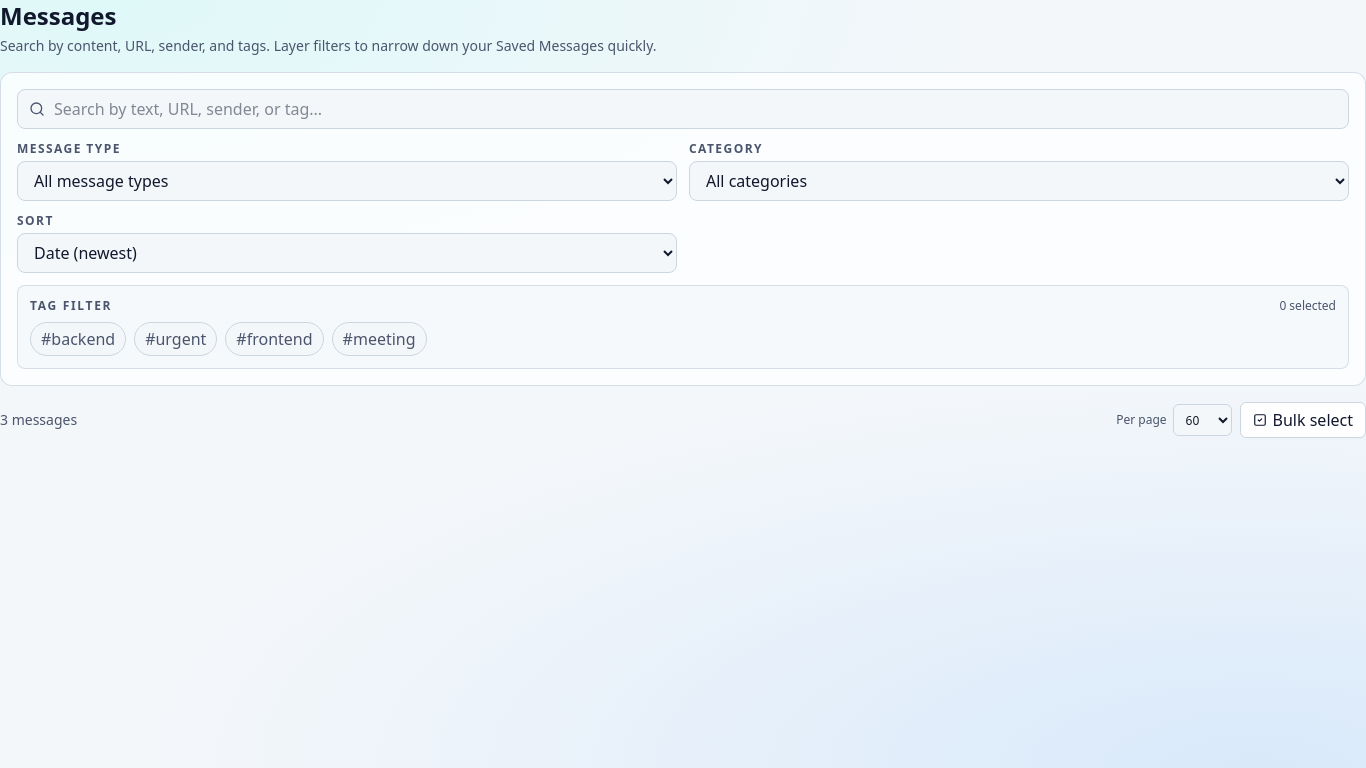
Test: MessagesPage filters › filters by search and clears active filters
Expected: the text "3 messages" is shown, [0,410,77,430]
Type "react" into the field with placeholder "Search by text, URL, sender, or tag...".
click(683, 109); type("react")  # box [17,89,1349,129]
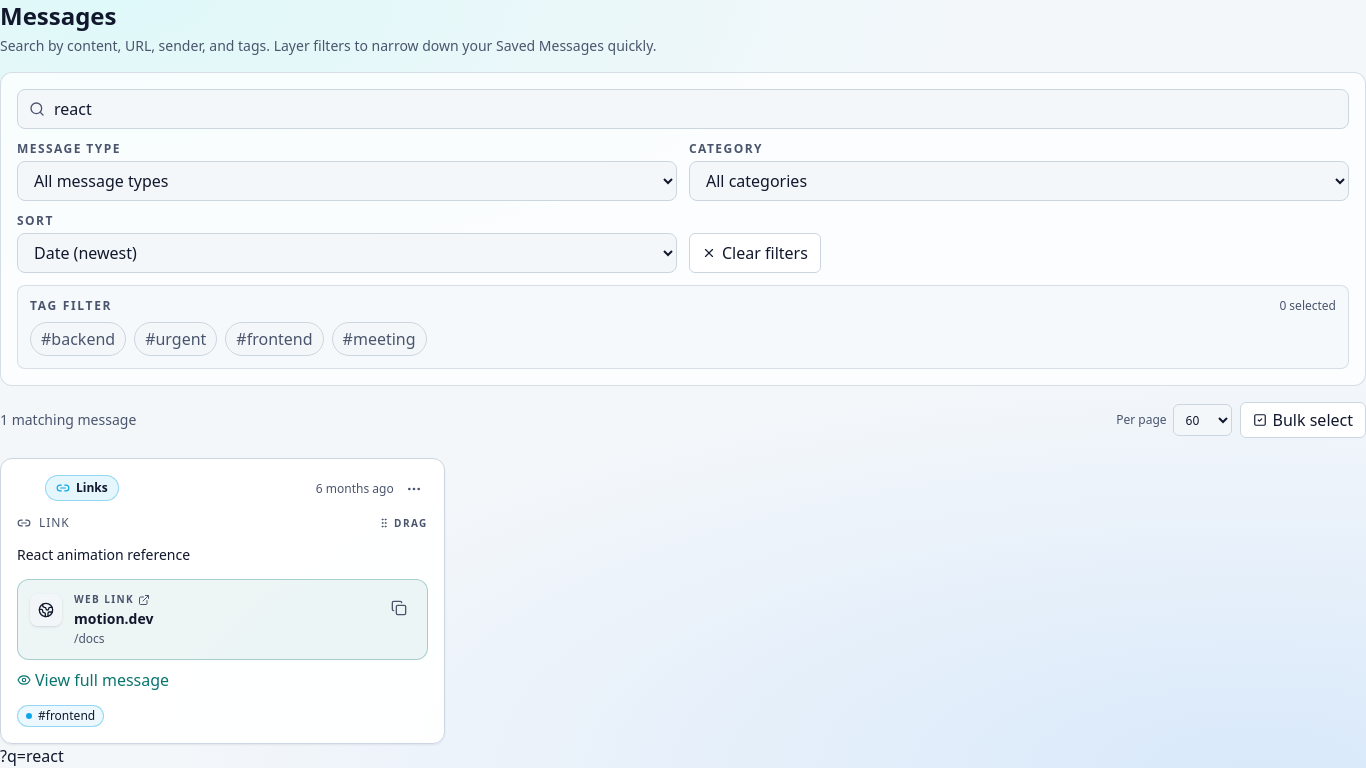
Expected: the text "Backend checklist" is not shown
Now the text "1 matching message" is shown, box [0,410,136,430]
Now the text "React animation reference" is shown, box [17,545,190,564]
Click the button "Clear filters".
click(755, 253)  # box [689,233,821,273]
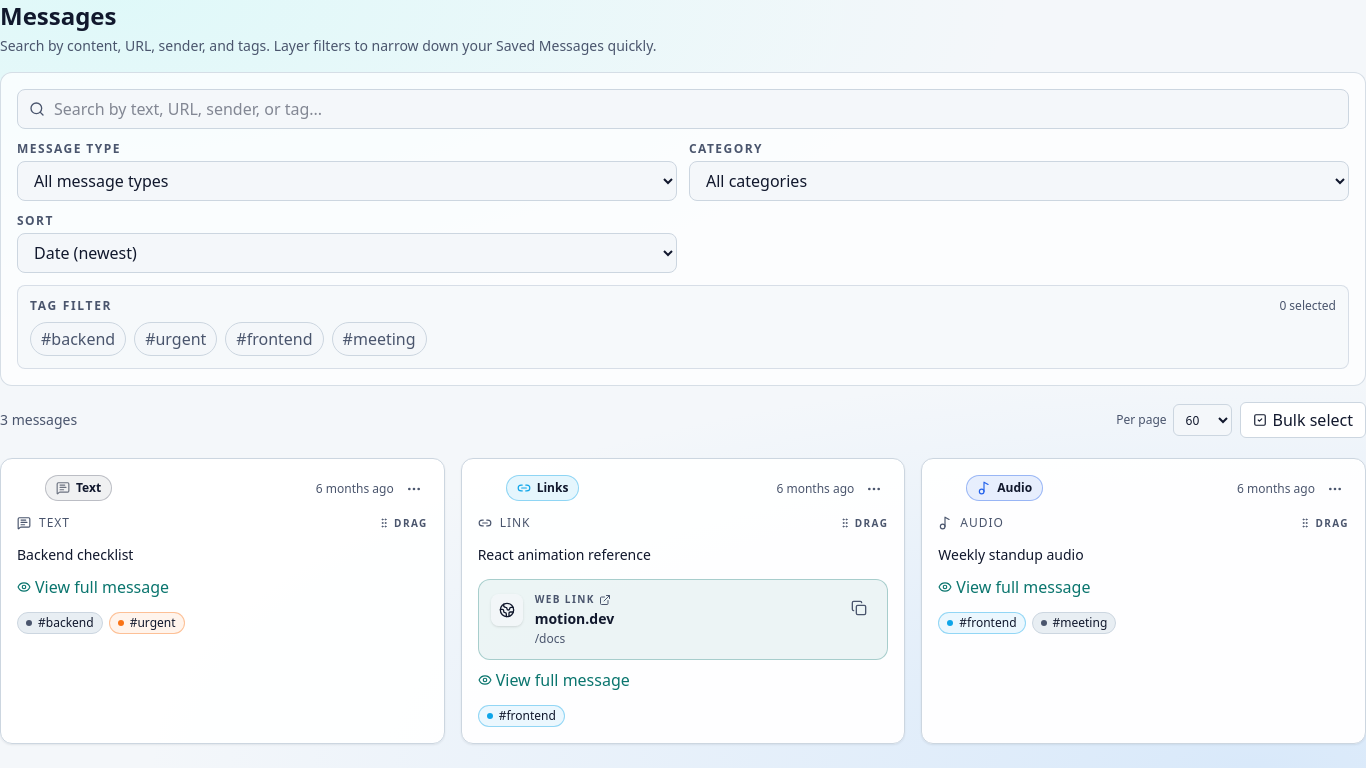
Now the text "React animation reference" is shown, box [478,545,651,564]
Now the text "3 messages" is shown, box [0,410,77,430]
Now the text "Backend checklist" is shown, box [17,545,133,564]
